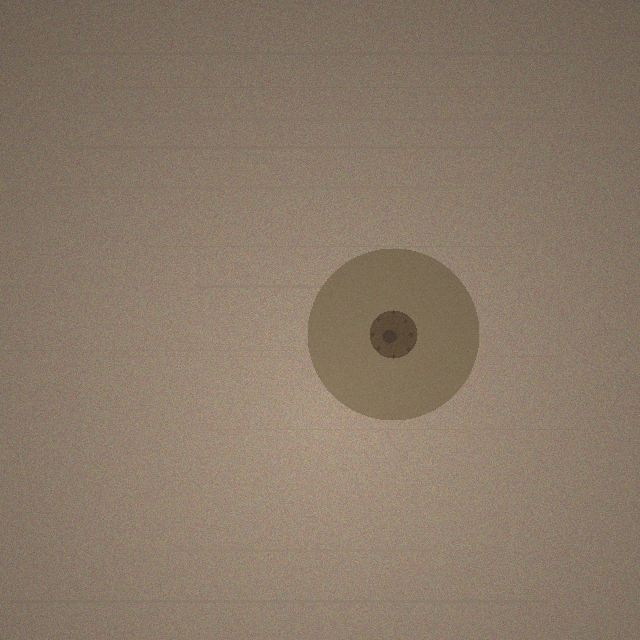cold_weld: (307, 248, 479, 420)
